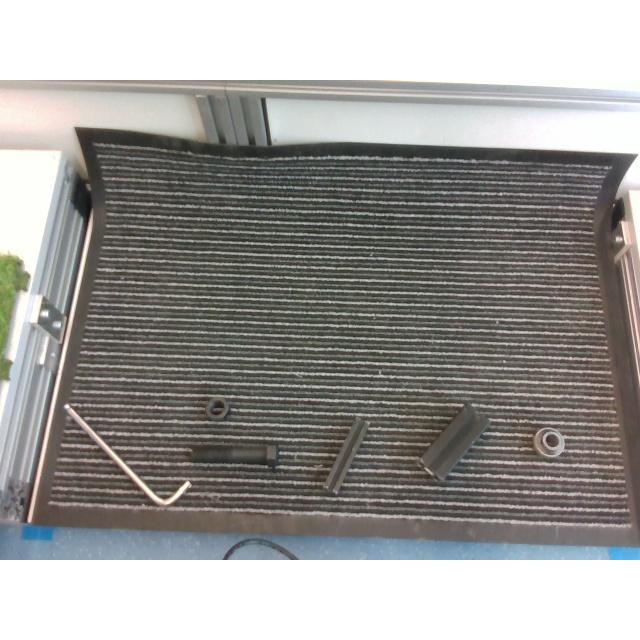AllenKey: (62, 403, 192, 509)
Bearing2: (534, 428, 564, 456)
F20_20_B: (322, 418, 371, 497)
M20: (204, 397, 228, 421)
M20_100: (189, 444, 279, 468)
S40_40_B: (419, 404, 487, 480)
